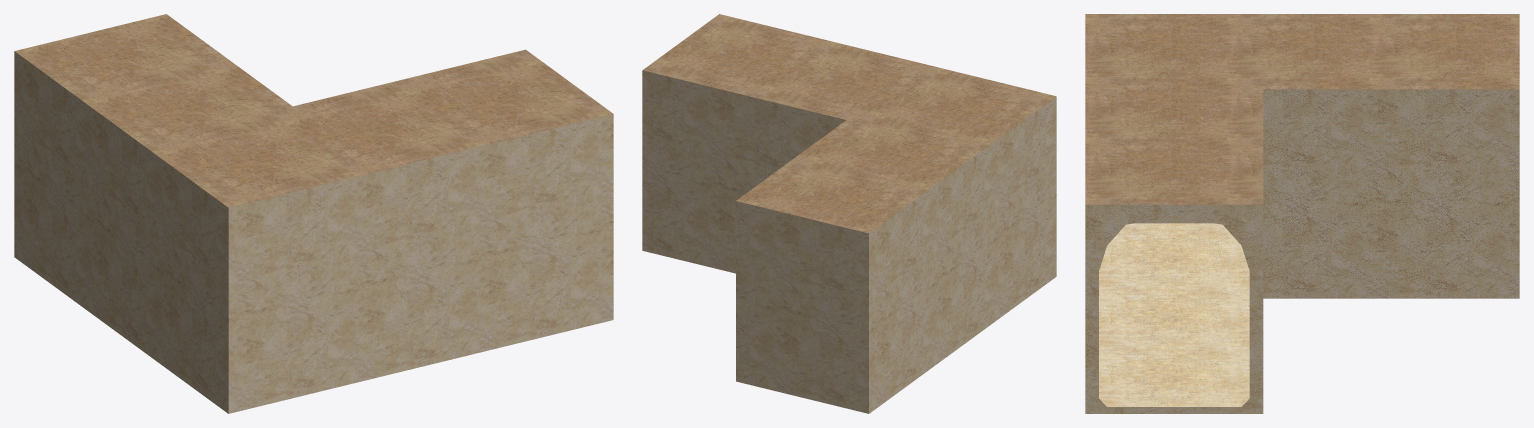
The model's file is thm_tato_imprv_building_s01_r1_foyer_mesh_l0.fbx.
3 renders of one model, left to right at view 1: azimuth 30°, elevation 25°; view 2: azimuth 150°, elevation 25°; view 3: azimuth 270°, elevation 25°, orthographic. The views are drawn at different scales.
Parts seen in each view (by area): view 1: mesh_node; view 2: mesh_node; view 3: mesh_node.
Part boxes in pixels (box(x1,y1,x2,y2)): mesh_node: box(14, 14, 613, 413); mesh_node: box(642, 14, 1056, 413); mesh_node: box(1085, 14, 1519, 413).
Bounding box in the file's own units: 6.35 × 3.25 × 6.11.
